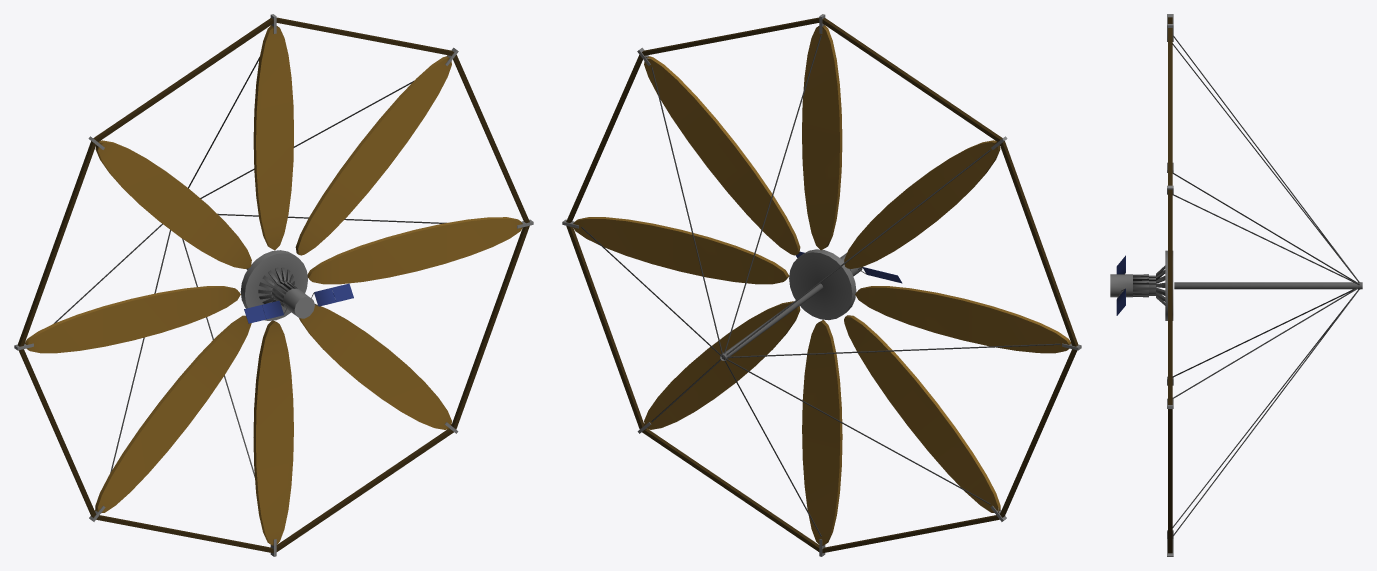
The picture shows the model from 3 angles, left to right: view 1: azimuth 30°, elevation 25°; view 2: azimuth 150°, elevation 25°; view 3: azimuth 270°, elevation 25°; orthographic projection. The views are drawn at different scales.
Parts seen in each view (by area): view 1: SolarSail; view 2: SolarSail; view 3: SolarSail.
Boxes of the visible parts, left/top/right/bottom form: SolarSail: left=14, top=14, right=533, bottom=556; SolarSail: left=562, top=14, right=1081, bottom=556; SolarSail: left=1110, top=14, right=1362, bottom=556.
Bounding box in the file's own units: 0.5 × 0.5 × 0.2187.
